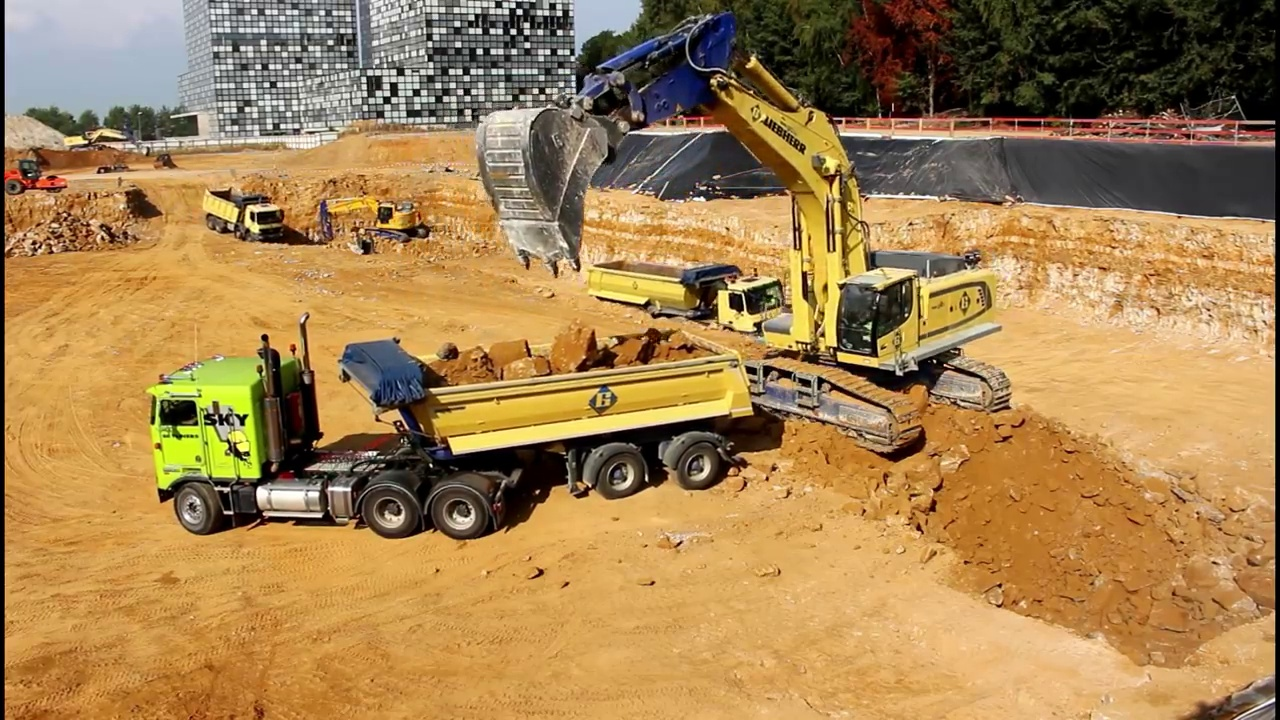compactor: (5, 158, 71, 200)
excavator: (473, 9, 1016, 459), (305, 190, 435, 252), (57, 126, 147, 159)
truck: (136, 309, 761, 544), (584, 254, 795, 361), (202, 179, 291, 250)
